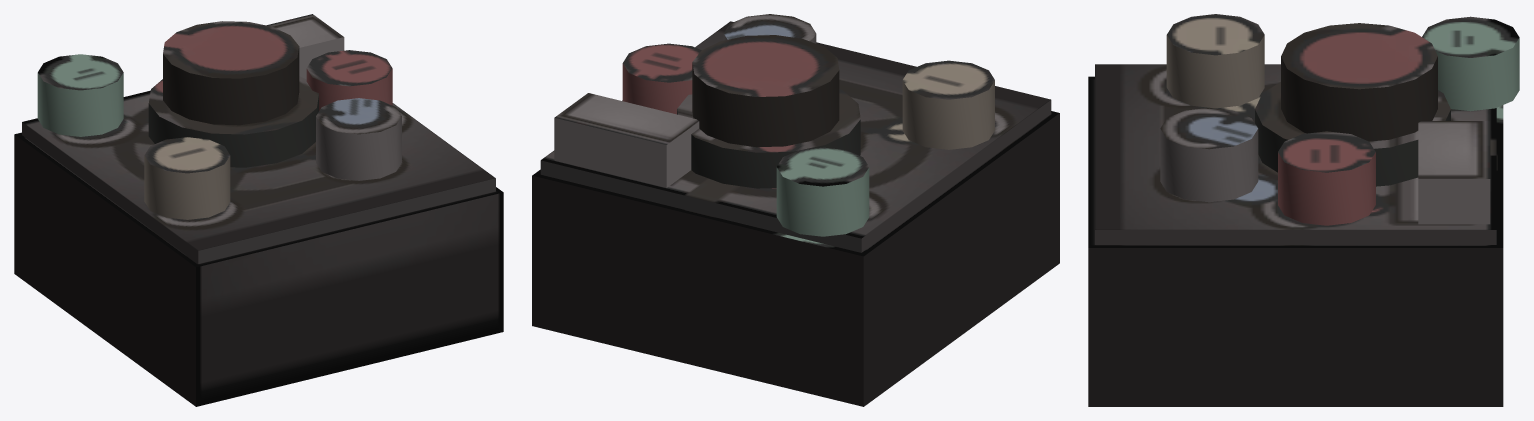
File: Building_SerumCentrifuge.obj
3 views of the same model, side by side, from view 1: azimuth 30°, elevation 25°; view 2: azimuth 150°, elevation 25°; view 3: azimuth 270°, elevation 25° (orthographic). The views are drawn at different scales.
Visible parts, largest first — view 1: Body; view 2: Body; view 3: Body.
Part boxes in pixels (x1,y1,x2,y2): Body: (14,14,503,406); Body: (532,14,1059,406); Body: (1088,14,1519,406).
Bounding box in the file's own units: 0.9688 × 0.7 × 1.03.
Materials: 1 (1 with a texture image).
